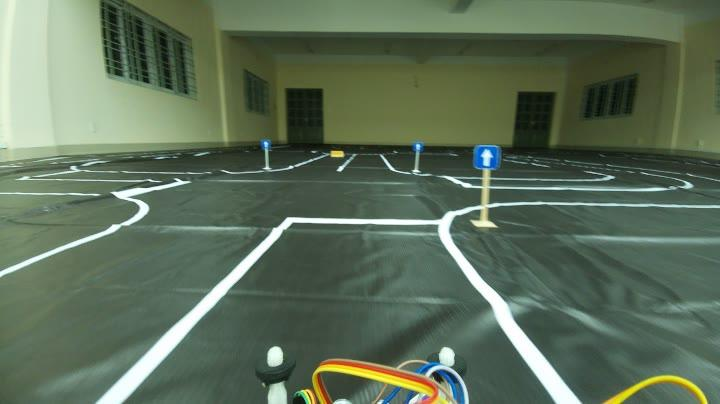onewayroad: (472, 142, 502, 174), (257, 135, 271, 149), (411, 138, 423, 152)
roadblock: (329, 148, 347, 158)
